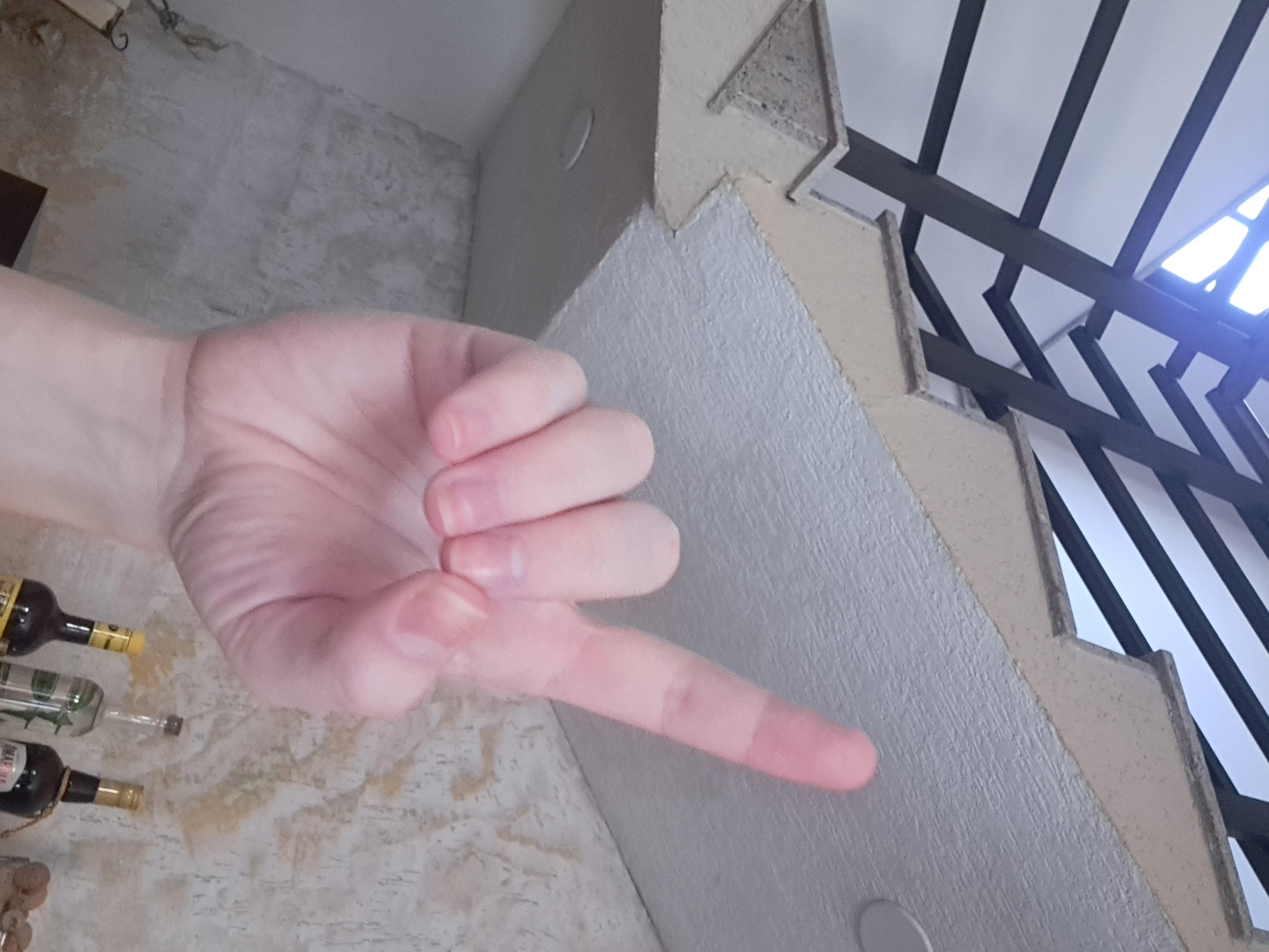D2: (446, 265, 1078, 869)
